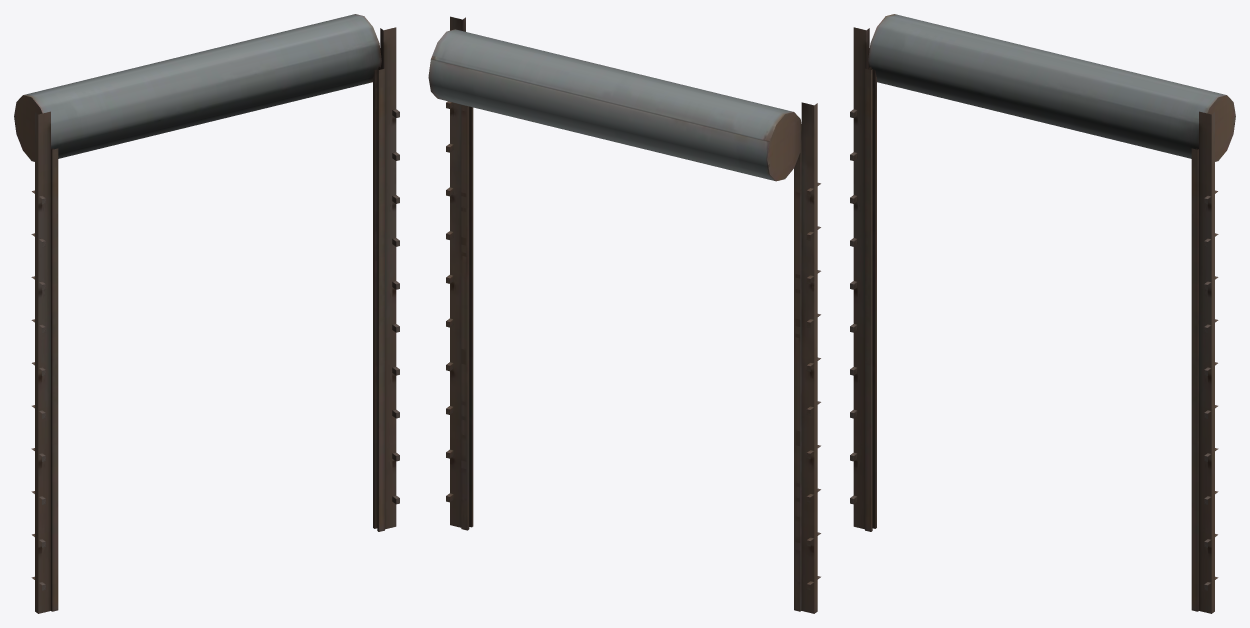
The picture shows the model from 3 angles, left to right: view 1: azimuth 30°, elevation 25°; view 2: azimuth 150°, elevation 25°; view 3: azimuth 330°, elevation 25°; orthographic projection.
Parts seen in each view (by area): view 1: body0_model0_lod0_mesh0; view 2: body0_model0_lod0_mesh0; view 3: body0_model0_lod0_mesh0.
Part boxes in pixels (x1=…): body0_model0_lod0_mesh0: x1=14, y1=14, x2=399, y2=613; body0_model0_lod0_mesh0: x1=428, y1=16, x2=820, y2=613; body0_model0_lod0_mesh0: x1=850, y1=14, x2=1235, y2=613.
Size of the model in its own units: 96 by 128 by 18.89.
1 material, 1 textured.
